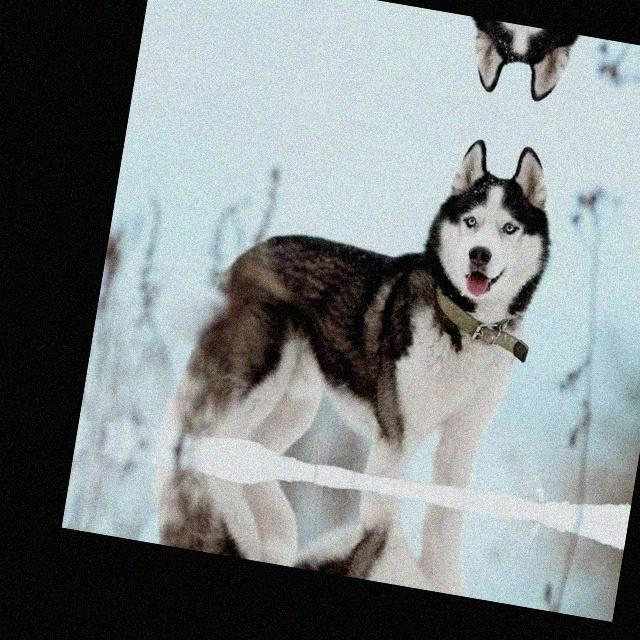dog: (200, 114, 575, 488), (181, 473, 517, 604), (264, 0, 597, 94)
